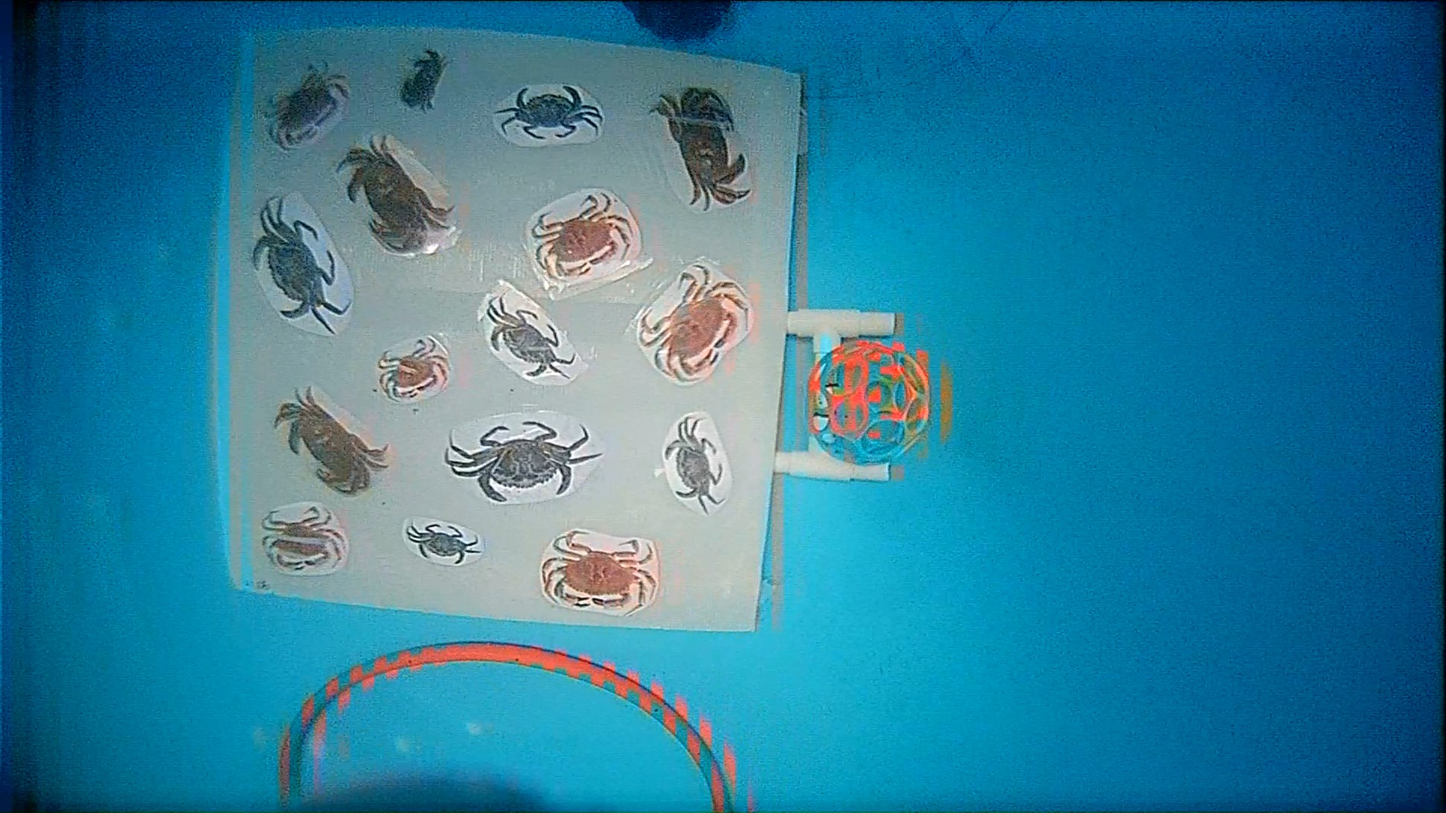GreenCrab: (253, 202, 349, 334), (448, 422, 601, 501), (487, 297, 575, 377), (495, 86, 602, 139), (665, 419, 721, 514)
